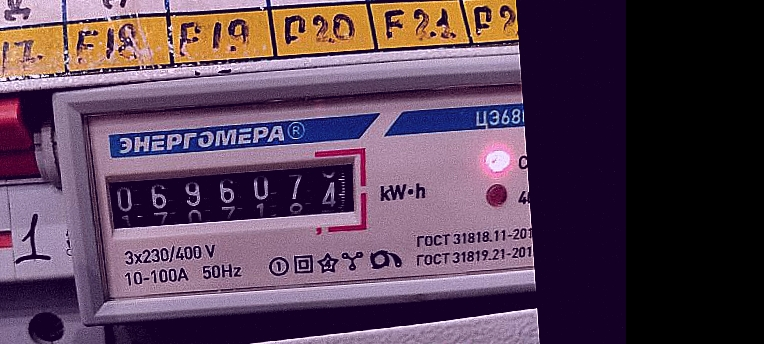0: (114, 182, 135, 212), (250, 172, 271, 200)
4: (319, 179, 338, 208)
6: (217, 174, 237, 203), (148, 181, 168, 209)
7: (285, 169, 306, 200)
9: (182, 178, 202, 207)
screen: (92, 142, 376, 249)
